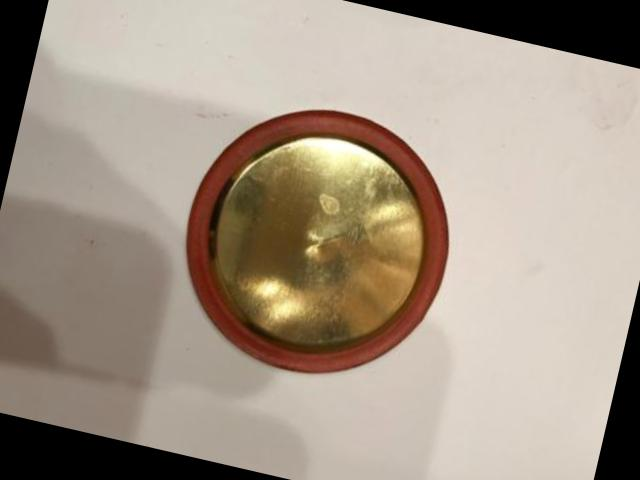metal: (188, 108, 449, 369)
